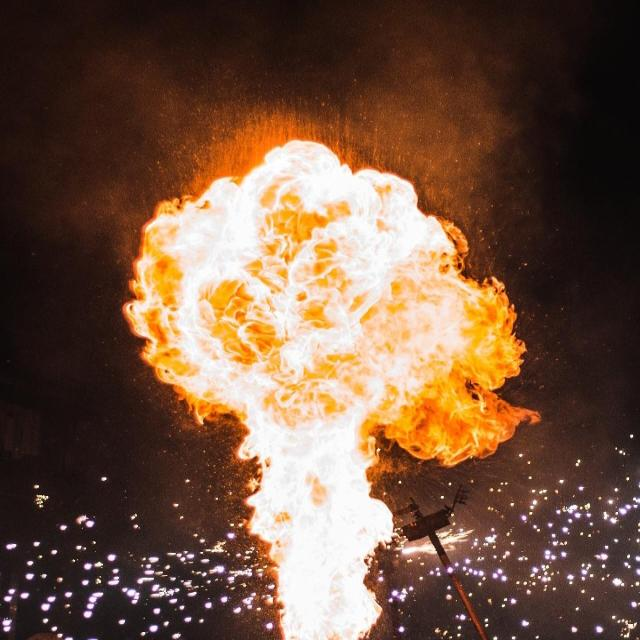fire: (231, 106, 519, 490), (117, 154, 271, 446), (246, 344, 390, 636)
